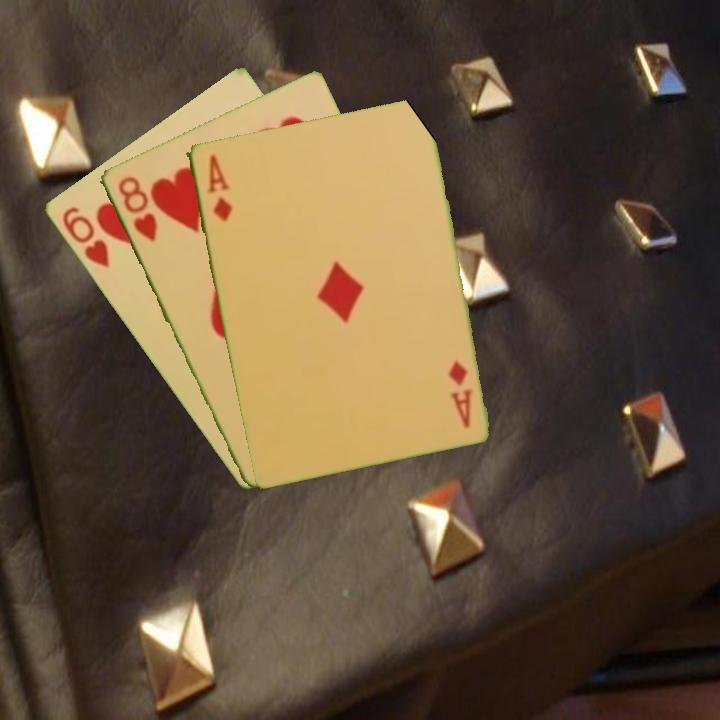6h: (58, 202, 112, 271)
8h: (114, 172, 160, 244)
Ad: (203, 150, 235, 224), (445, 356, 475, 431)
